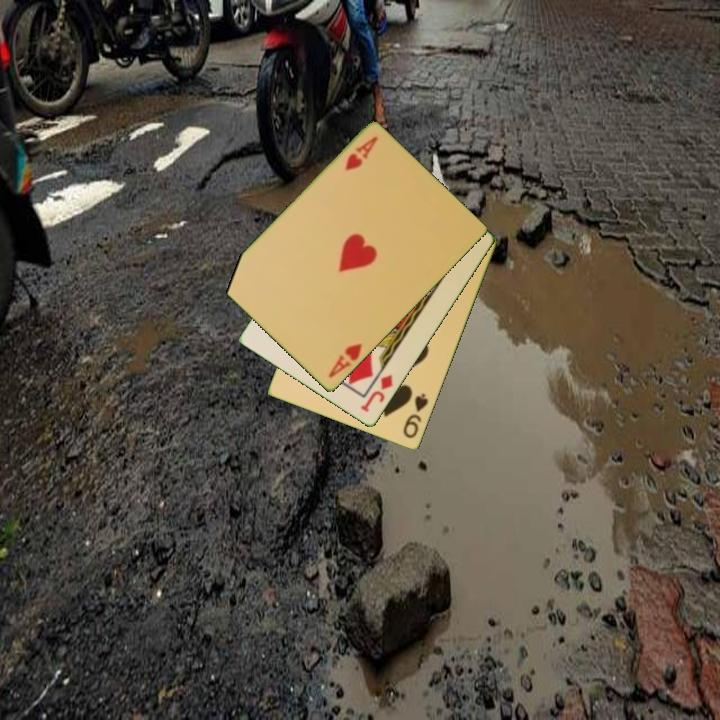9s: (400, 390, 431, 442)
Ah: (325, 340, 365, 381), (341, 133, 381, 174)
Jd: (357, 371, 396, 416)
